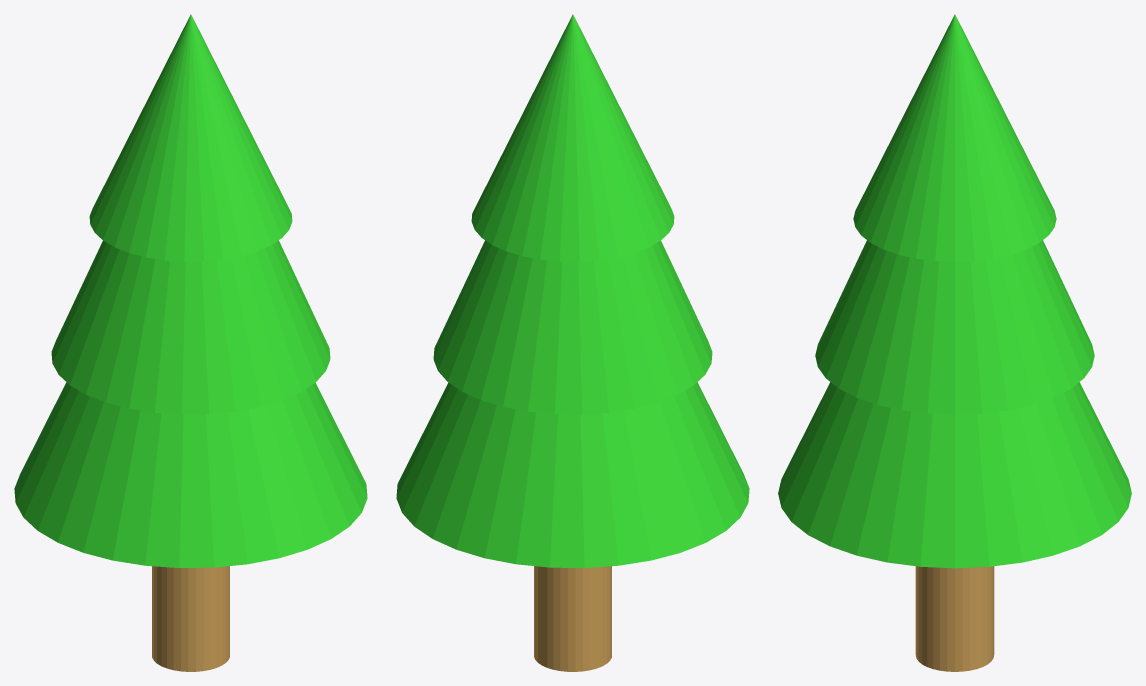
The model's file is Small Tree.fbx.
The picture shows the model from 3 angles, left to right: view 1: azimuth 30°, elevation 25°; view 2: azimuth 150°, elevation 25°; view 3: azimuth 270°, elevation 25°; orthographic projection.
Parts seen in each view (by area): view 1: Cone; view 2: Cone; view 3: Cone.
Boxes of the visible parts, x1,y1,x2,y2 form: Cone: (14, 14, 367, 671); Cone: (396, 14, 749, 671); Cone: (778, 14, 1131, 671).
Bounding box in the file's own units: 1 × 1 × 2.
